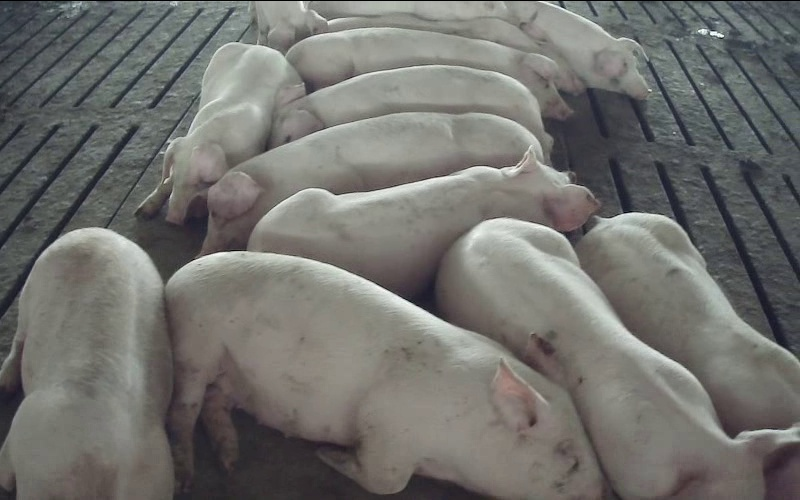pig: (166, 254, 603, 497), (436, 218, 799, 499), (248, 147, 599, 297), (575, 213, 799, 434), (0, 228, 173, 499), (137, 43, 300, 224), (270, 65, 552, 155), (328, 14, 585, 93), (507, 2, 648, 99), (309, 0, 517, 23), (250, 2, 327, 53)
